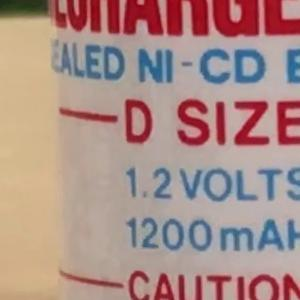NI-CD: (128, 39, 276, 93)
